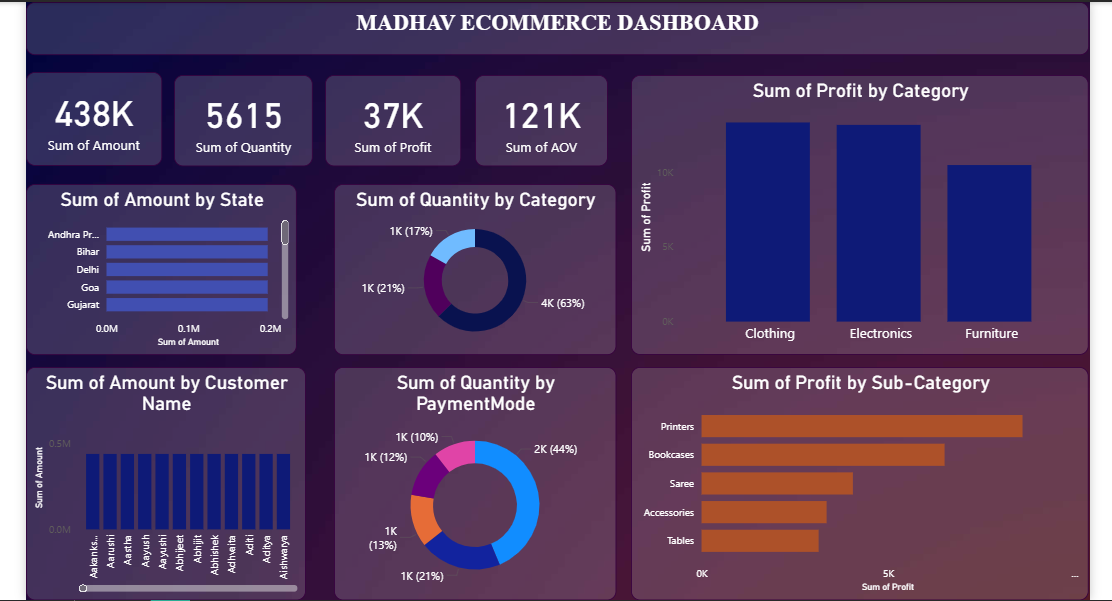

Layout of this report page (visuals, bound fields, positions):
{"tool":"powerbi","page":{"name":"Page 1","canvas":[1280,720],"ordinal":0},"visuals":[{"type":"columnChart","fields":{"Category":["Details.Category"],"Y":["Details.Profit"]},"box":[728.4,87.9,551.4,337.1],"z":0},{"type":"barChart","fields":{"Category":["Details.Sub-Category"],"Y":["Details.Profit"]},"box":[728.4,439.5,551.4,280.5],"z":1000},{"type":"donutChart","fields":{"Category":["Details.Category"],"Y":["Details.Quantity"]},"box":[370.8,219.1,339.5,205.9],"z":2000},{"type":"donutChart","fields":{"Category":["Details.PaymentMode"],"Y":["Details.Quantity"]},"box":[370.8,439.5,339.5,280.5],"z":3000},{"type":"card","fields":{"Values":["Details.Amount"]},"box":[0,84.3,163.7,113.2],"z":4000},{"type":"card","fields":{"Values":["Details.Quantity"]},"box":[178.2,87.9,167.4,109.6],"z":5000},{"type":"card","fields":{"Values":["Details.Profit"]},"box":[360,87.9,163.7,109.6],"z":6000},{"type":"card","fields":{"Values":["Details.AOV"]},"box":[540.6,87.9,160.1,109.6],"z":7000},{"type":"barChart","fields":{"Category":["Orders.State"],"Y":["Details.Amount"]},"box":[0,219.1,326.3,205.9],"z":8000},{"type":"columnChart","fields":{"Category":["Orders.Customer Name"],"Y":["Details.Amount"]},"box":[0,439.5,337.1,280.5],"z":9000},{"type":"textbox","box":[0,0,1279.9,63.8],"z":10000}]}

Visuals, with their boxes on the page's 1280x720 design canvas (x1, y1, x2, y2). These are canvas units, not pixel positions in the 1112x601 screenshot, which may show the page scaled, cropped or inside an application window:
columnChart - Details.Category x Details.Profit: BBox(728, 88, 1280, 425)
barChart - Details.Sub-Category x Details.Profit: BBox(728, 440, 1280, 720)
donutChart - Details.Category x Details.Quantity: BBox(371, 219, 710, 425)
donutChart - Details.PaymentMode x Details.Quantity: BBox(371, 440, 710, 720)
card - Details.Amount: BBox(0, 84, 164, 198)
card - Details.Quantity: BBox(178, 88, 346, 198)
card - Details.Profit: BBox(360, 88, 524, 198)
card - Details.AOV: BBox(541, 88, 701, 198)
barChart - Orders.State x Details.Amount: BBox(0, 219, 326, 425)
columnChart - Orders.Customer Name x Details.Amount: BBox(0, 440, 337, 720)
textbox: BBox(0, 0, 1280, 64)
